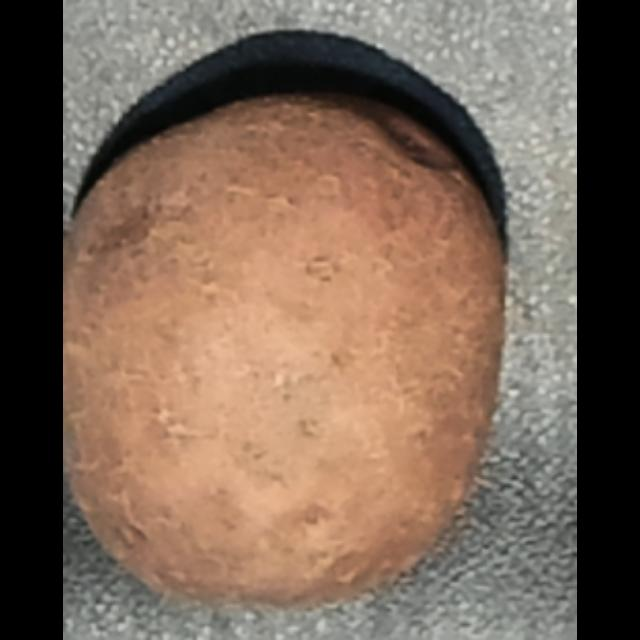Diseased-fungal potato: (64, 22, 526, 616)
